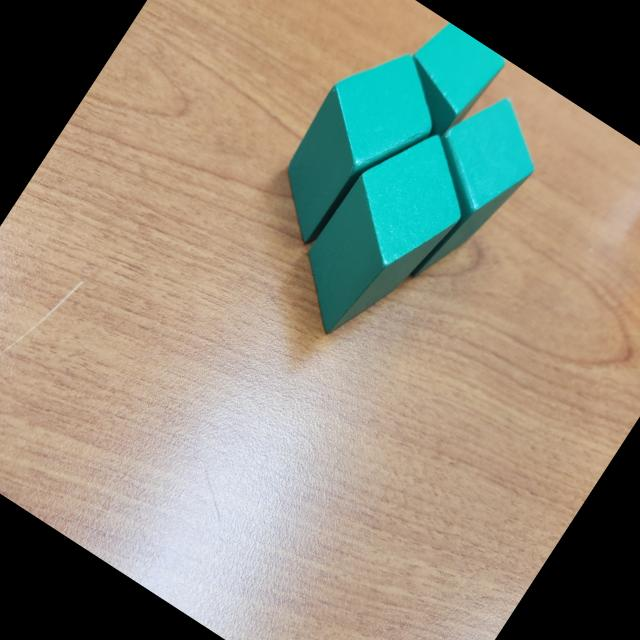green: (274, 109, 491, 361), (250, 27, 461, 270), (368, 80, 560, 302), (378, 15, 510, 155)
